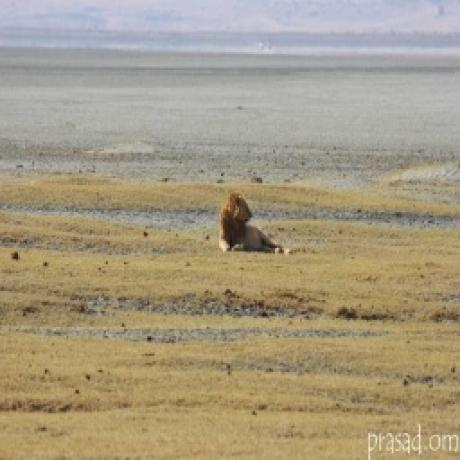Lion: (216, 193, 282, 255)
